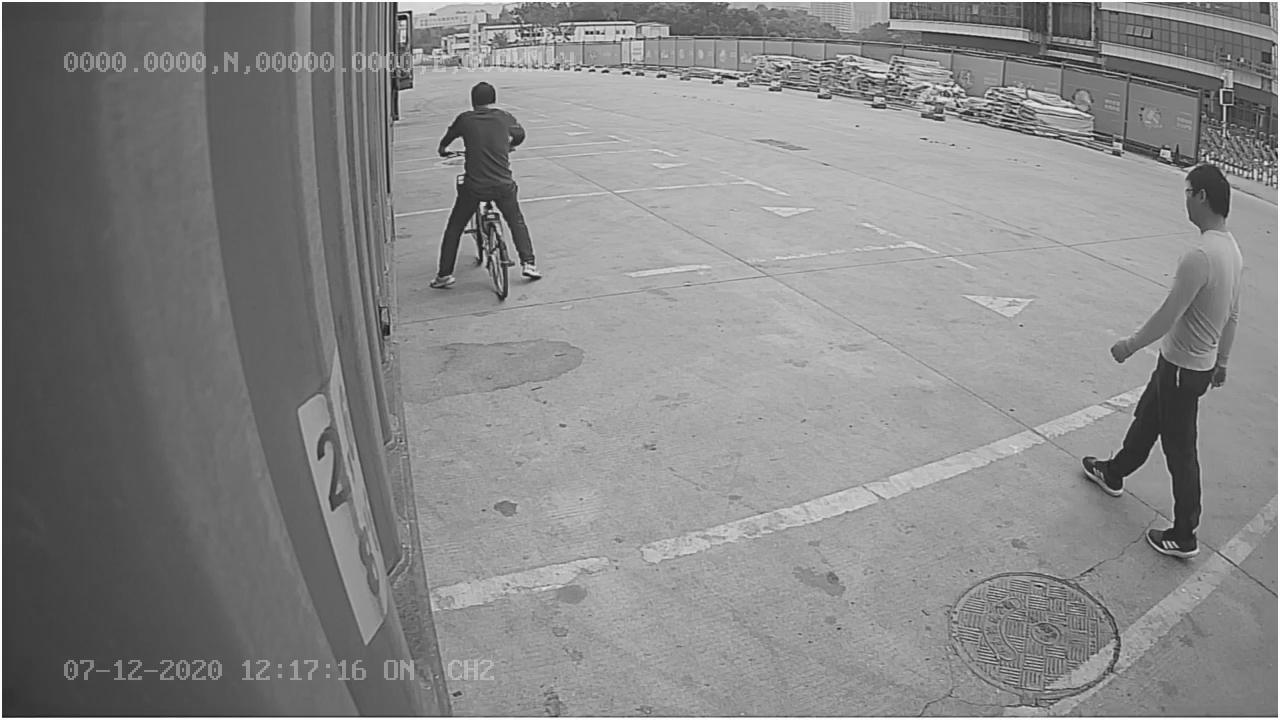person: (1080, 139, 1245, 560)
